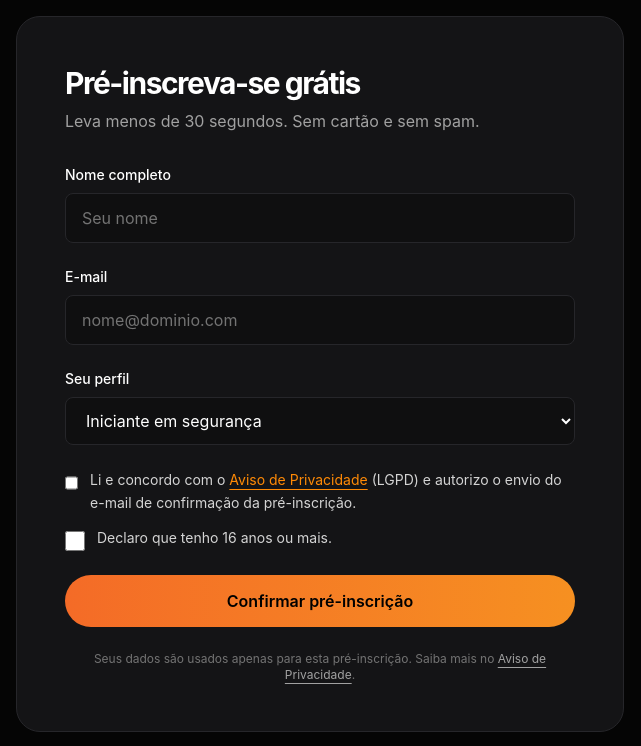
Test case: PreEnrollmentForm › modo habilitado › erros inline por campo com aria-describedby e aria-invalid (J1-ERR)
What coordinates should you click on to do the following:
click the button "Confirmar pré-inscrição"
I would click on:
 (320, 600)
Its box is top-left (65, 574), bottom-right (575, 626).
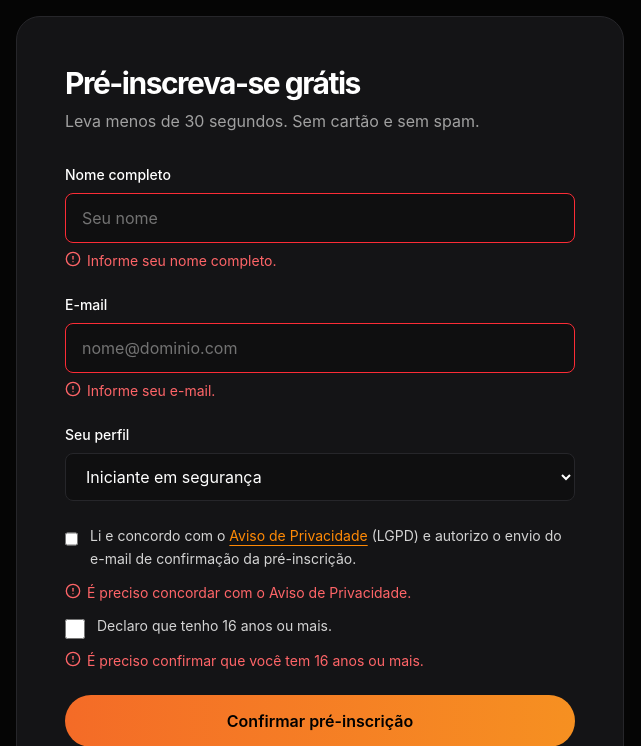
Expected: the text "Informe seu nome completo." is shown, top-left (65, 251), bottom-right (276, 269)
Expected: the text "É preciso concordar com o Aviso de Privacidade." is shown, top-left (65, 582), bottom-right (411, 600)
